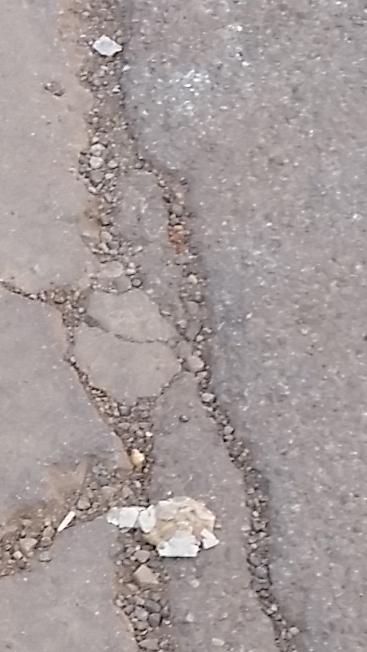A: (11, 4, 316, 648)
